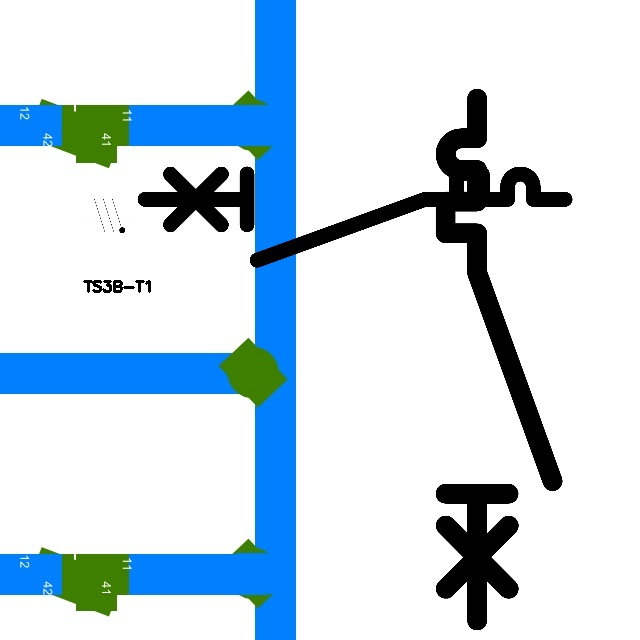interruptor_termomagnetico: (432, 85, 566, 634), (134, 163, 576, 271)
